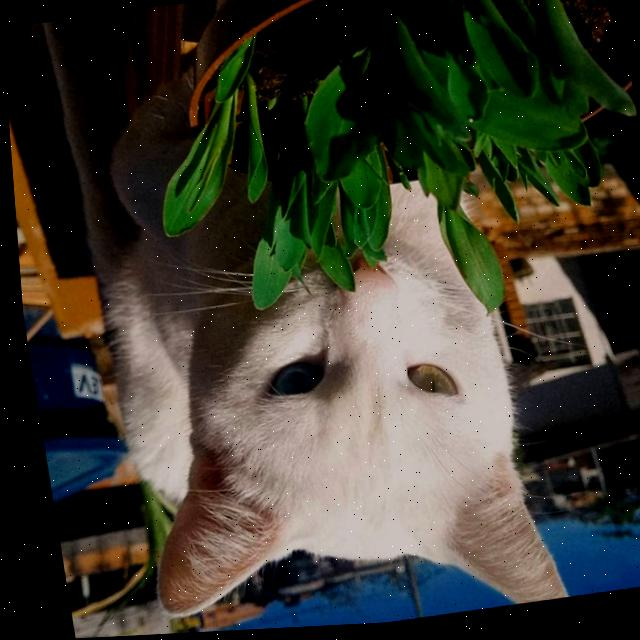Khao Manee: (73, 169, 574, 637)
